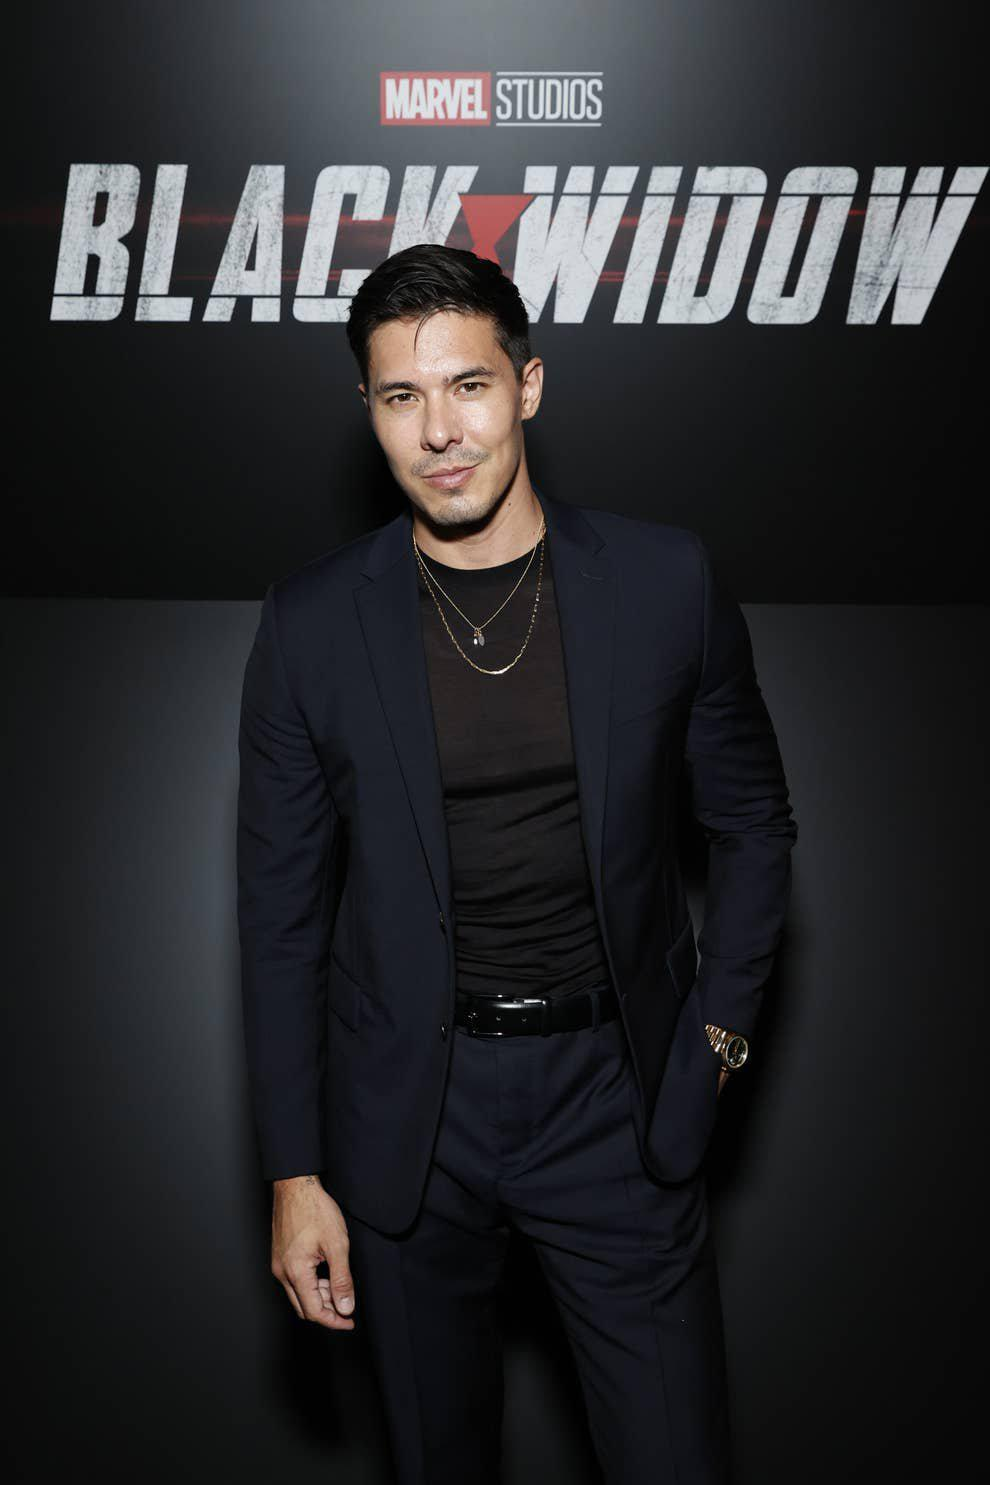Sober: (365, 314, 530, 514)
